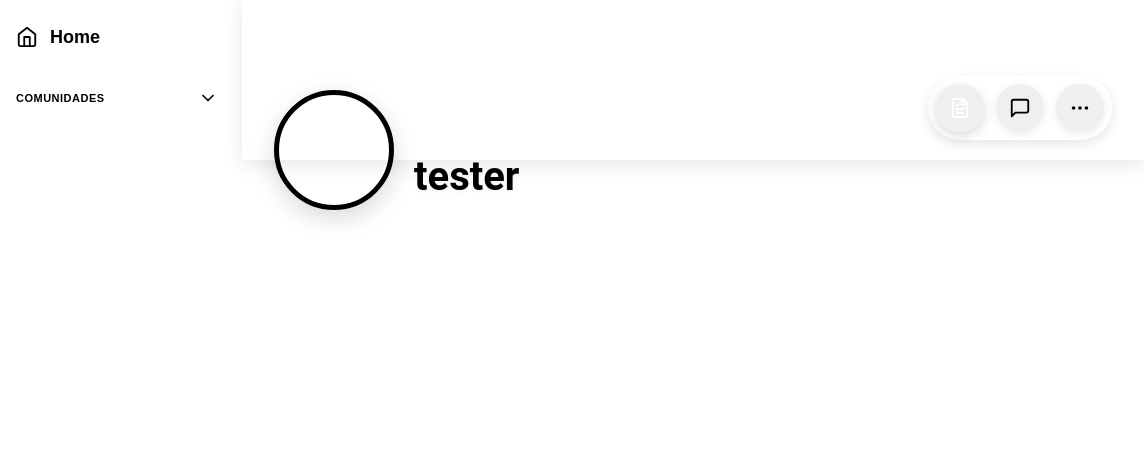
Test: Página Profile › deve alternar para a aba de comentários
Click the button titled "Ver comentários": (1020, 108) [996, 84, 1044, 132]
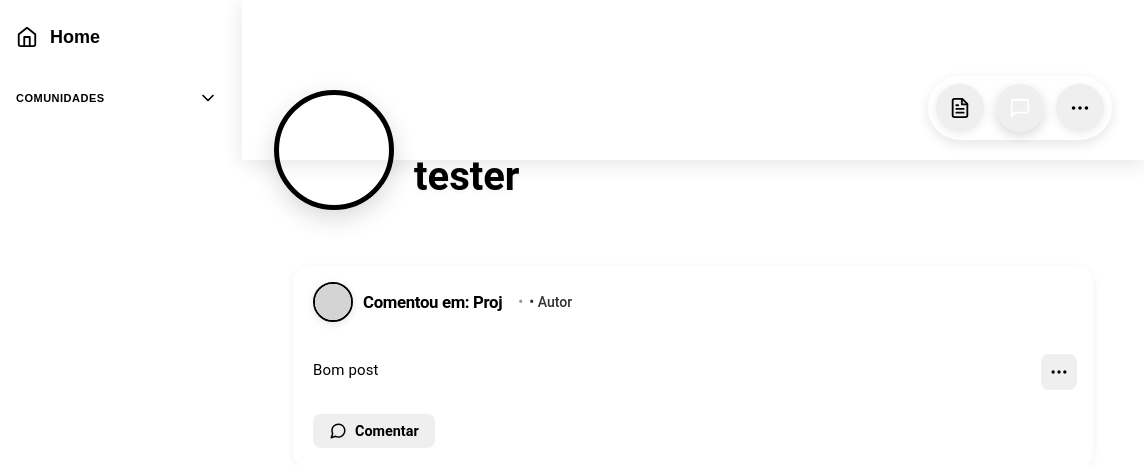
Expected: the text "Comentou em: Proj" is shown, [363, 292, 502, 312]
